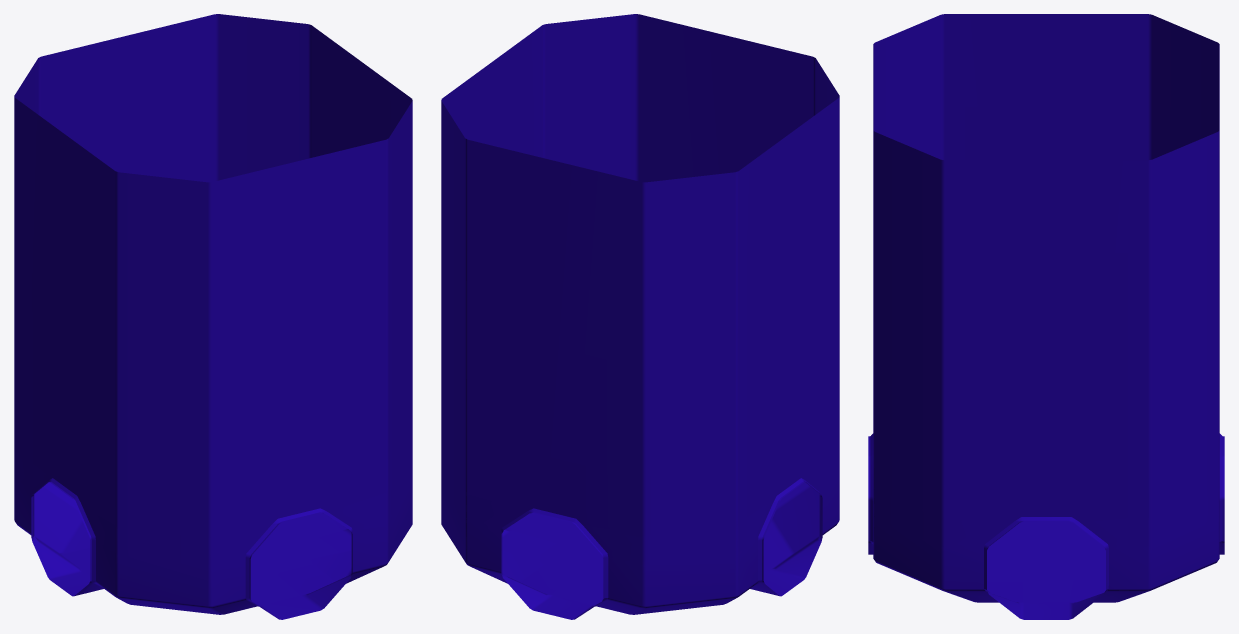
Rendered from Arena Base soft.fbx.
3 renders of one model, left to right at view 1: azimuth 30°, elevation 25°; view 2: azimuth 150°, elevation 25°; view 3: azimuth 270°, elevation 25°, orthographic.
Visible parts, largest first — view 1: arena_base; view 2: arena_base; view 3: arena_base.
Part boxes in pixels (left/top/right/bottom): arena_base: left=14, top=14, right=412, bottom=619; arena_base: left=441, top=14, right=839, bottom=619; arena_base: left=868, top=14, right=1224, bottom=619.
Bounding box in the file's own units: 72 × 102 × 72.
